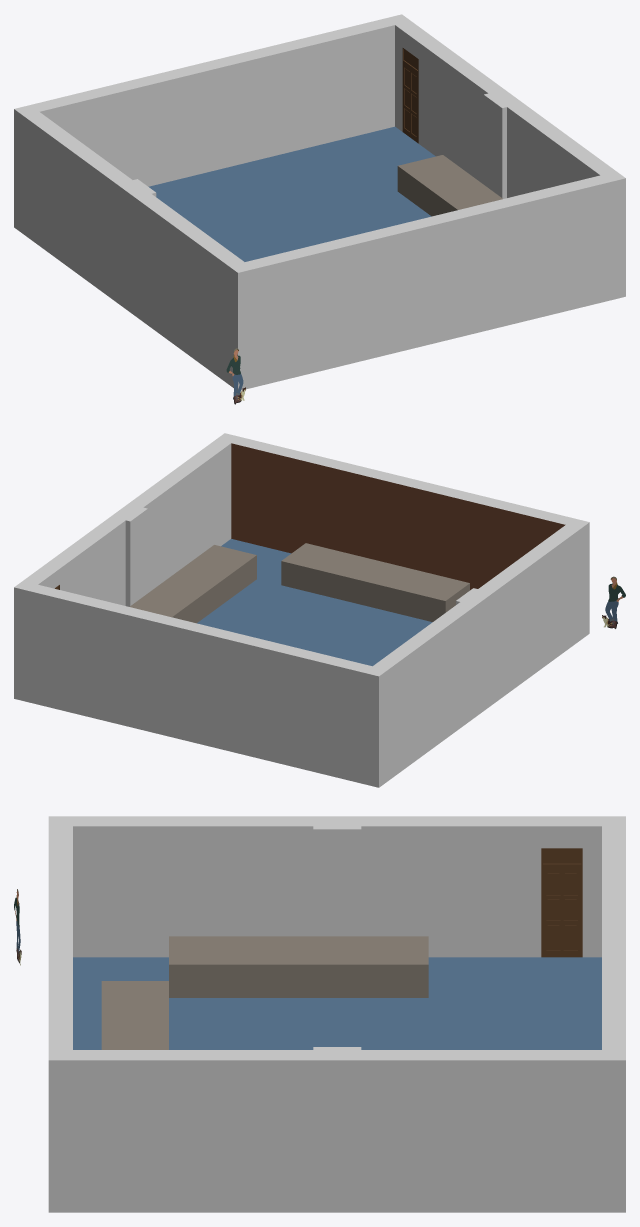
File: SalonVirtual.fbx
The picture shows the model from 3 angles, top to bottom: view 1: azimuth 30°, elevation 25°; view 2: azimuth 150°, elevation 25°; view 3: azimuth 270°, elevation 25°; orthographic projection. The views are drawn at different scales.
Visible parts, largest first — view 1: Model, Group1, Heather1; view 2: Model, Heather1; view 3: Model, Group2.
Boxes of the visible parts, bbox=[...] form: Model: bbox=[14, 14, 625, 390]; Group1: bbox=[402, 48, 418, 143]; Heather1: bbox=[226, 348, 245, 404]; Model: bbox=[14, 433, 589, 787]; Heather1: bbox=[602, 576, 625, 628]; Model: bbox=[48, 816, 625, 1212]; Group2: bbox=[541, 848, 582, 957].
Size of the model in its own units: 12.77 by 3.52 by 12.72.
